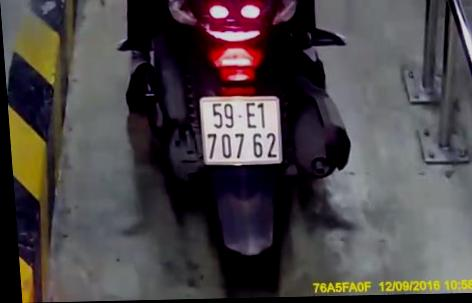License_Plate: (191, 90, 295, 178)
